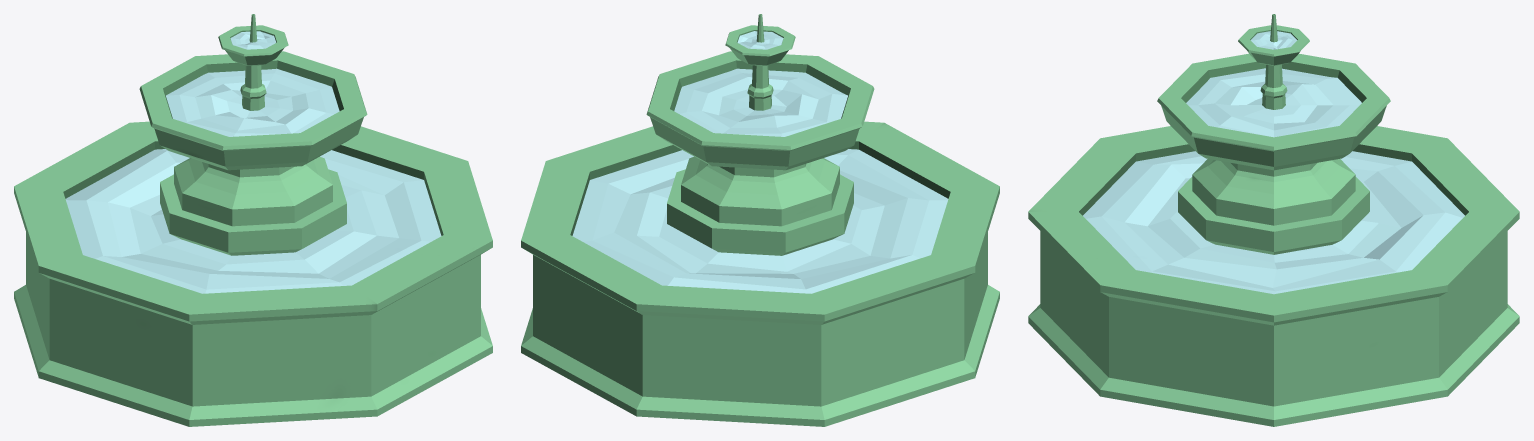
File: Fountain.fbx
3 views of the same model, side by side, from view 1: azimuth 30°, elevation 25°; view 2: azimuth 150°, elevation 25°; view 3: azimuth 270°, elevation 25° (orthographic).
Parts seen in each view (by area): view 1: Water Fountain; view 2: Water Fountain; view 3: Water Fountain.
Part boxes in pixels (box(x1,y1,x2,y2)): Water Fountain: box(14, 14, 492, 426); Water Fountain: box(521, 14, 999, 426); Water Fountain: box(1028, 14, 1519, 426).
Size of the model in its own units: 182 by 126 by 182.
